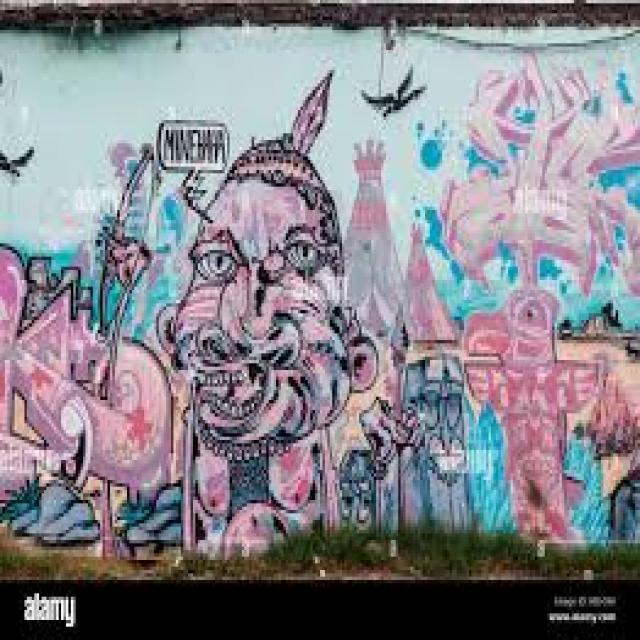-: (0, 68, 640, 559), (436, 56, 640, 300)
